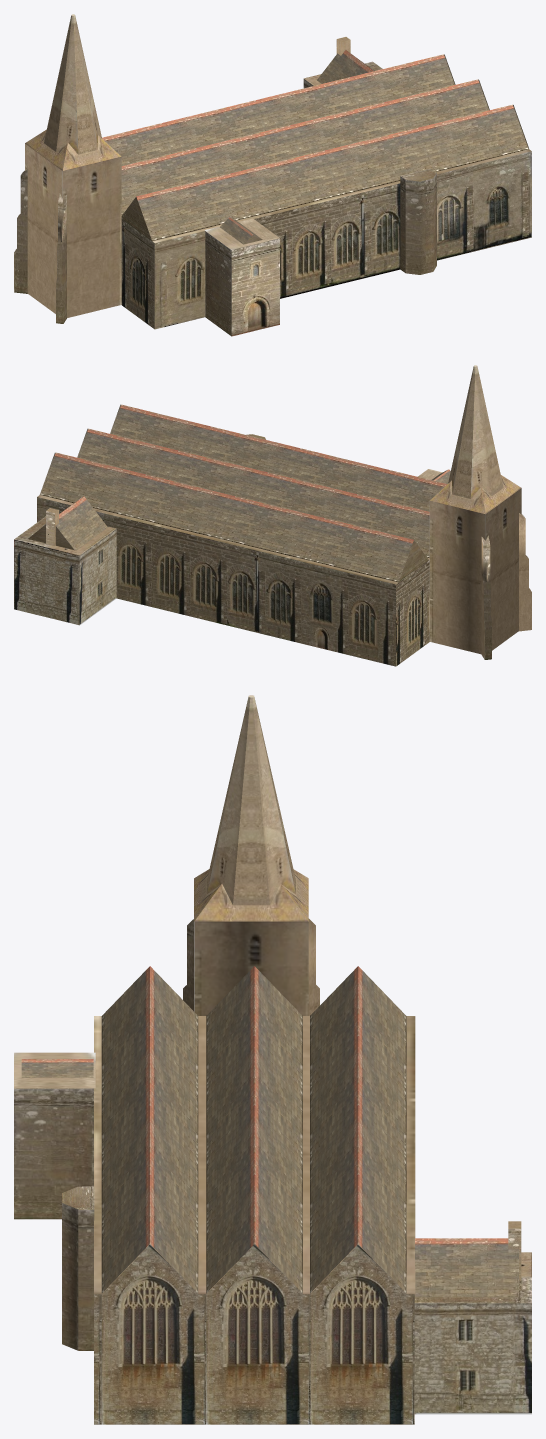
File: AllSaints-lowpoly.obj
The picture shows the model from 3 angles, top to bottom: view 1: azimuth 30°, elevation 25°; view 2: azimuth 150°, elevation 25°; view 3: azimuth 270°, elevation 25°; orthographic projection. The views are drawn at different scales.
Parts seen in each view (by area): view 1: side2; view 2: side2; view 3: side2.
Part boxes in pixels (box(x1,y1,x2,y2)): side2: box(14, 14, 531, 336); side2: box(14, 365, 531, 666); side2: box(14, 695, 531, 1424).
Size of the model in its own units: 1699 by 1035 by 1134.
Materials: 1 (1 with a texture image).
